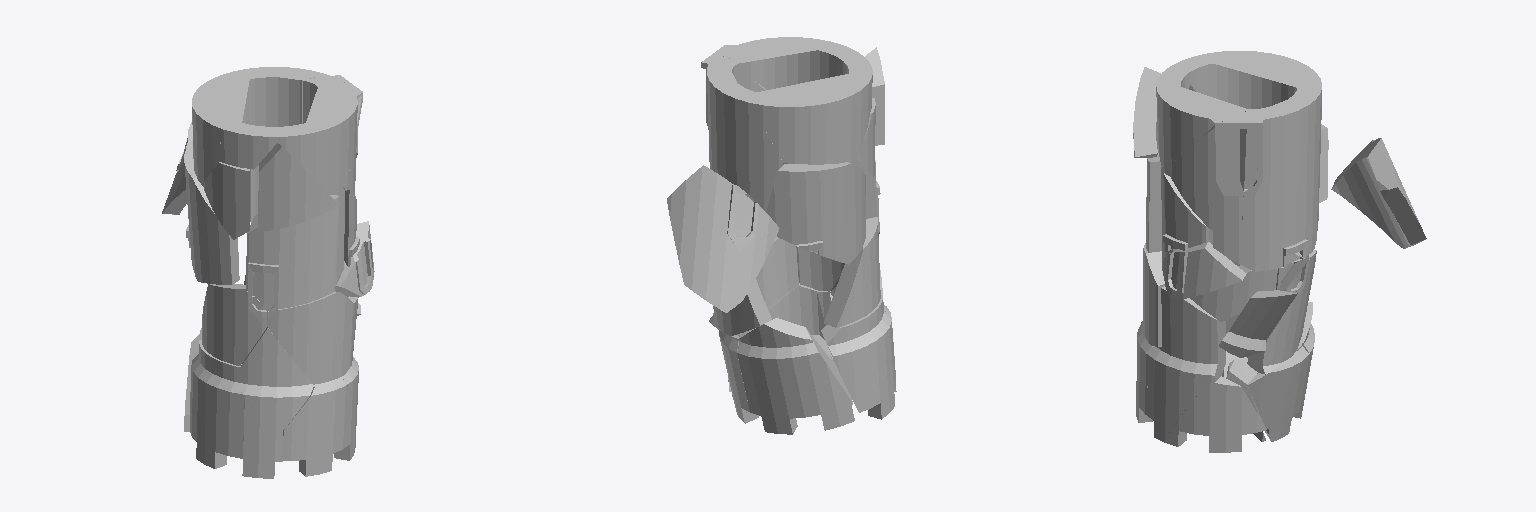
File: destruction_tower_000029.obj
3 views of the same model, side by side, from view 1: azimuth 30°, elevation 25°; view 2: azimuth 150°, elevation 25°; view 3: azimuth 270°, elevation 25° (orthographic).
Parts seen in each view (by area): view 1: tower.001_cell.024_Mesh.024, tower.001_cell.021_Mesh.021, tower.001_cell.028_Mesh.028, tower.001_cell.006_Mesh.006, tower.001_cell.011_Mesh.011, tower.001_cell.002_Mesh.002, tower.001_cell.013_Mesh.013, tower.001_cell.009_Mesh.009, tower.001_cell.003_Mesh.003, tower.001_cell.017_Mesh.017, tower.001_cell.015_Mesh.015, tower.001_cell.005_Mesh.005 (+9 smaller); view 2: tower.001_cell.025_Mesh.025, tower.001_cell.007_Mesh.007, tower.001_cell.015_Mesh.015, tower.001_cell.003_Mesh.003, tower.001_cell.017_Mesh.017, tower.001_cell.028_Mesh.028, tower.001_cell.005_Mesh.005, tower.001_cell.009_Mesh.009, tower.001_cell_Mesh, tower.001_cell.012_Mesh.012, tower.001_cell.023_Mesh.023, tower.001_cell.021_Mesh.021 (+7 smaller); view 3: tower.001_cell.017_Mesh.017, tower.001_cell.020_Mesh.020, tower.001_cell.025_Mesh.025, tower.001_cell.015_Mesh.015, tower.001_cell.028_Mesh.028, tower.001_cell.030_Mesh.030, tower.001_cell_Mesh, tower.001_cell.029_Mesh.029, tower.001_cell.010_Mesh.010, tower.001_cell.023_Mesh.023, tower.001_cell.012_Mesh.012, tower.001_cell.026_Mesh.026 (+12 smaller).
Boxes of the visible parts, <box> form: tower.001_cell.024_Mesh.024: <box>246,195,339,310</box>; tower.001_cell.021_Mesh.021: <box>268,291,353,386</box>; tower.001_cell.028_Mesh.028: <box>271,86,362,194</box>; tower.001_cell.006_Mesh.006: <box>195,391,282,478</box>; tower.001_cell.011_Mesh.011: <box>283,379,347,476</box>; tower.001_cell.002_Mesh.002: <box>258,143,336,231</box>; tower.001_cell.013_Mesh.013: <box>239,327,313,429</box>; tower.001_cell.009_Mesh.009: <box>202,283,268,365</box>; tower.001_cell.003_Mesh.003: <box>184,140,239,284</box>; tower.001_cell.017_Mesh.017: <box>231,67,326,222</box>; tower.001_cell.015_Mesh.015: <box>192,72,249,185</box>; tower.001_cell.005_Mesh.005: <box>190,340,241,439</box>; tower.001_cell.025_Mesh.025: <box>667,165,779,312</box>; tower.001_cell.007_Mesh.007: <box>737,318,854,434</box>; tower.001_cell.015_Mesh.015: <box>752,74,870,164</box>; tower.001_cell.003_Mesh.003: <box>766,162,865,264</box>; tower.001_cell.017_Mesh.017: <box>707,67,787,211</box>; tower.001_cell.028_Mesh.028: <box>725,37,859,89</box>; tower.001_cell.005_Mesh.005: <box>821,295,891,412</box>; tower.001_cell.009_Mesh.009: <box>824,217,880,327</box>; tower.001_cell_Mesh: <box>756,237,798,310</box>; tower.001_cell.012_Mesh.012: <box>709,279,771,335</box>; tower.001_cell.023_Mesh.023: <box>769,283,832,357</box>; tower.001_cell.021_Mesh.021: <box>796,246,844,291</box>; tower.001_cell.017_Mesh.017: <box>1269,84,1321,258</box>; tower.001_cell.020_Mesh.020: <box>1168,117,1246,230</box>; tower.001_cell.025_Mesh.025: <box>1331,138,1426,248</box>; tower.001_cell.015_Mesh.015: <box>1213,51,1321,108</box>; tower.001_cell.028_Mesh.028: <box>1156,69,1247,168</box>; tower.001_cell.030_Mesh.030: <box>1163,376,1266,452</box>; tower.001_cell_Mesh: <box>1161,286,1225,383</box>; tower.001_cell.029_Mesh.029: <box>1247,344,1309,441</box>; tower.001_cell.010_Mesh.010: <box>1162,241,1246,299</box>; tower.001_cell.023_Mesh.023: <box>1147,345,1205,441</box>; tower.001_cell.012_Mesh.012: <box>1247,250,1316,374</box>; tower.001_cell.026_Mesh.026: <box>1240,107,1268,231</box>.
Bounding box in the file's own units: 51.62 × 96.19 × 75.56.